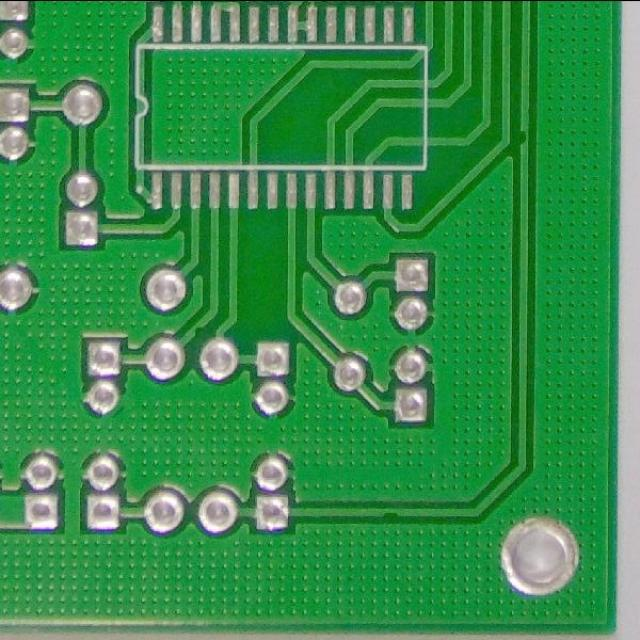MouseBite: (189, 317, 209, 336), (378, 506, 404, 520), (518, 125, 532, 149)
